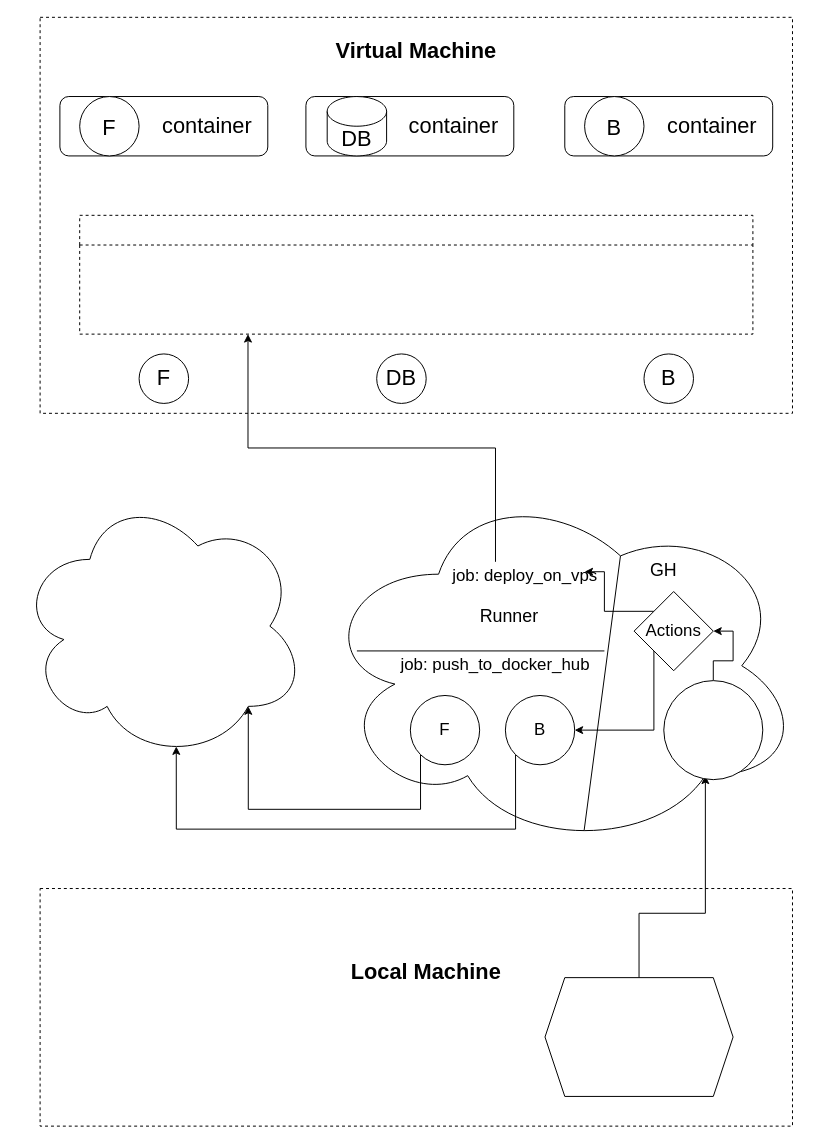
The diagram is 820 pixels wide and 1143 high, and some of its shapes have lost their labels. The shapes that lost their labels are listed below. From the top down, each one's centre as x and y in pixels, then its label:
At [416,274]: "docker-compose.yml".
At [161,626]: "DockerHub".
At [713,730]: "mainBranch".
At [638,1036]: "Project Frontend".
